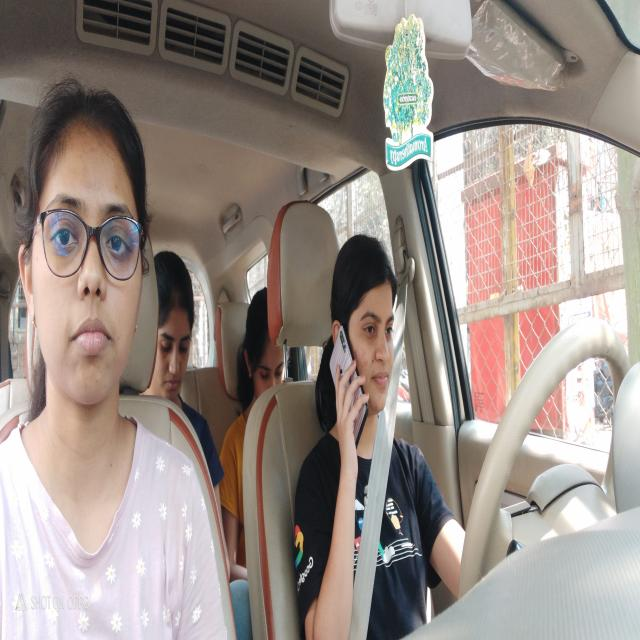mobile: (329, 312, 371, 438)
person: (16, 61, 158, 482), (326, 224, 405, 458), (233, 272, 292, 443), (148, 239, 199, 403)
